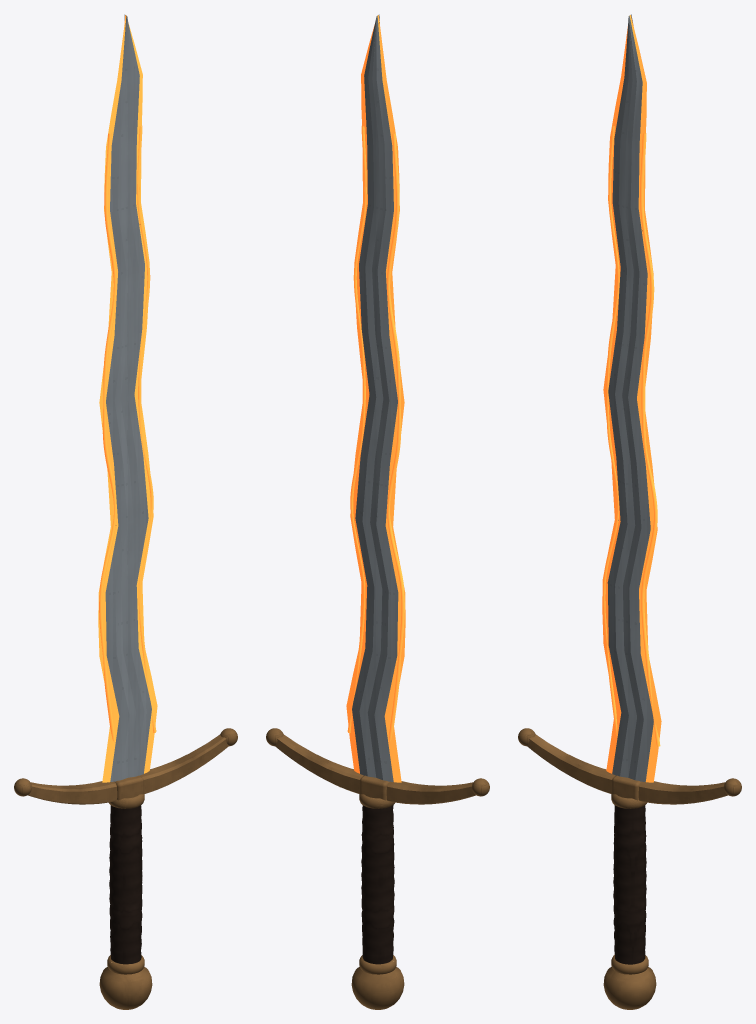
File: flame-sword.lod1.glb
3 renders of one model, left to right at view 1: azimuth 30°, elevation 25°; view 2: azimuth 150°, elevation 25°; view 3: azimuth 330°, elevation 25°, orthographic.
Parts seen in each view (by area): view 1: steel / forged blade steel, energy / emissive field channel, bronze / cast bronze with patina, leather / oiled leather wrap; view 2: steel / forged blade steel, energy / emissive field channel, bronze / cast bronze with patina, leather / oiled leather wrap; view 3: steel / forged blade steel, energy / emissive field channel, bronze / cast bronze with patina, leather / oiled leather wrap.
Part boxes in pixels (x1=…): steel / forged blade steel: x1=105, y1=14, x2=151, y2=781; energy / emissive field channel: x1=98, y1=15, x2=157, y2=782; bronze / cast bronze with patina: x1=14, y1=728, x2=237, y2=1009; leather / oiled leather wrap: x1=109, y1=805, x2=142, y2=964; steel / forged blade steel: x1=352, y1=14, x2=398, y2=781; energy / emissive field channel: x1=346, y1=15, x2=405, y2=782; bronze / cast bronze with patina: x1=266, y1=728, x2=489, y2=1009; leather / oiled leather wrap: x1=361, y1=805, x2=394, y2=964; steel / forged blade steel: x1=607, y1=14, x2=653, y2=781; energy / emissive field channel: x1=602, y1=15, x2=661, y2=782; bronze / cast bronze with patina: x1=518, y1=728, x2=741, y2=1009; leather / oiled leather wrap: x1=613, y1=805, x2=646, y2=964.
Size of the model in its own units: 0.2798 by 1.2 by 0.0578.
Materials: 5 (3 with a texture image).
